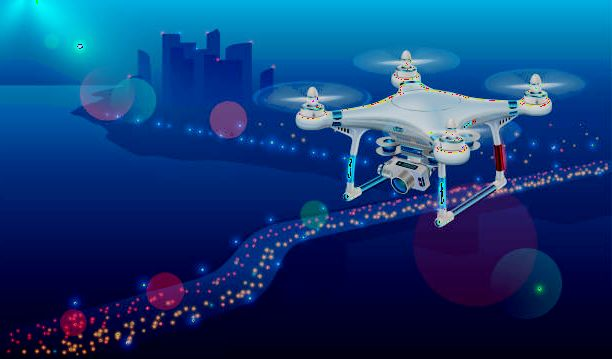Drone: (254, 37, 576, 231)
